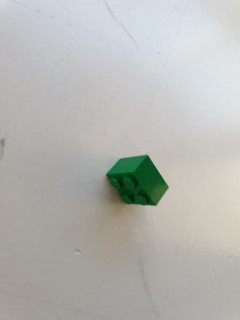2x2 green: (100, 152, 172, 210)
